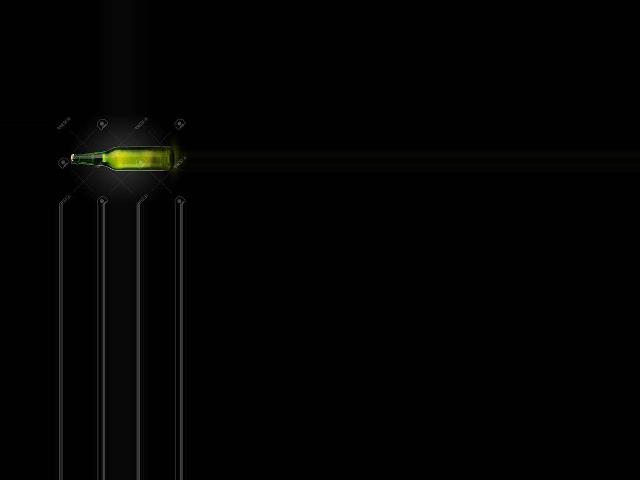beer: (70, 147, 173, 171)
